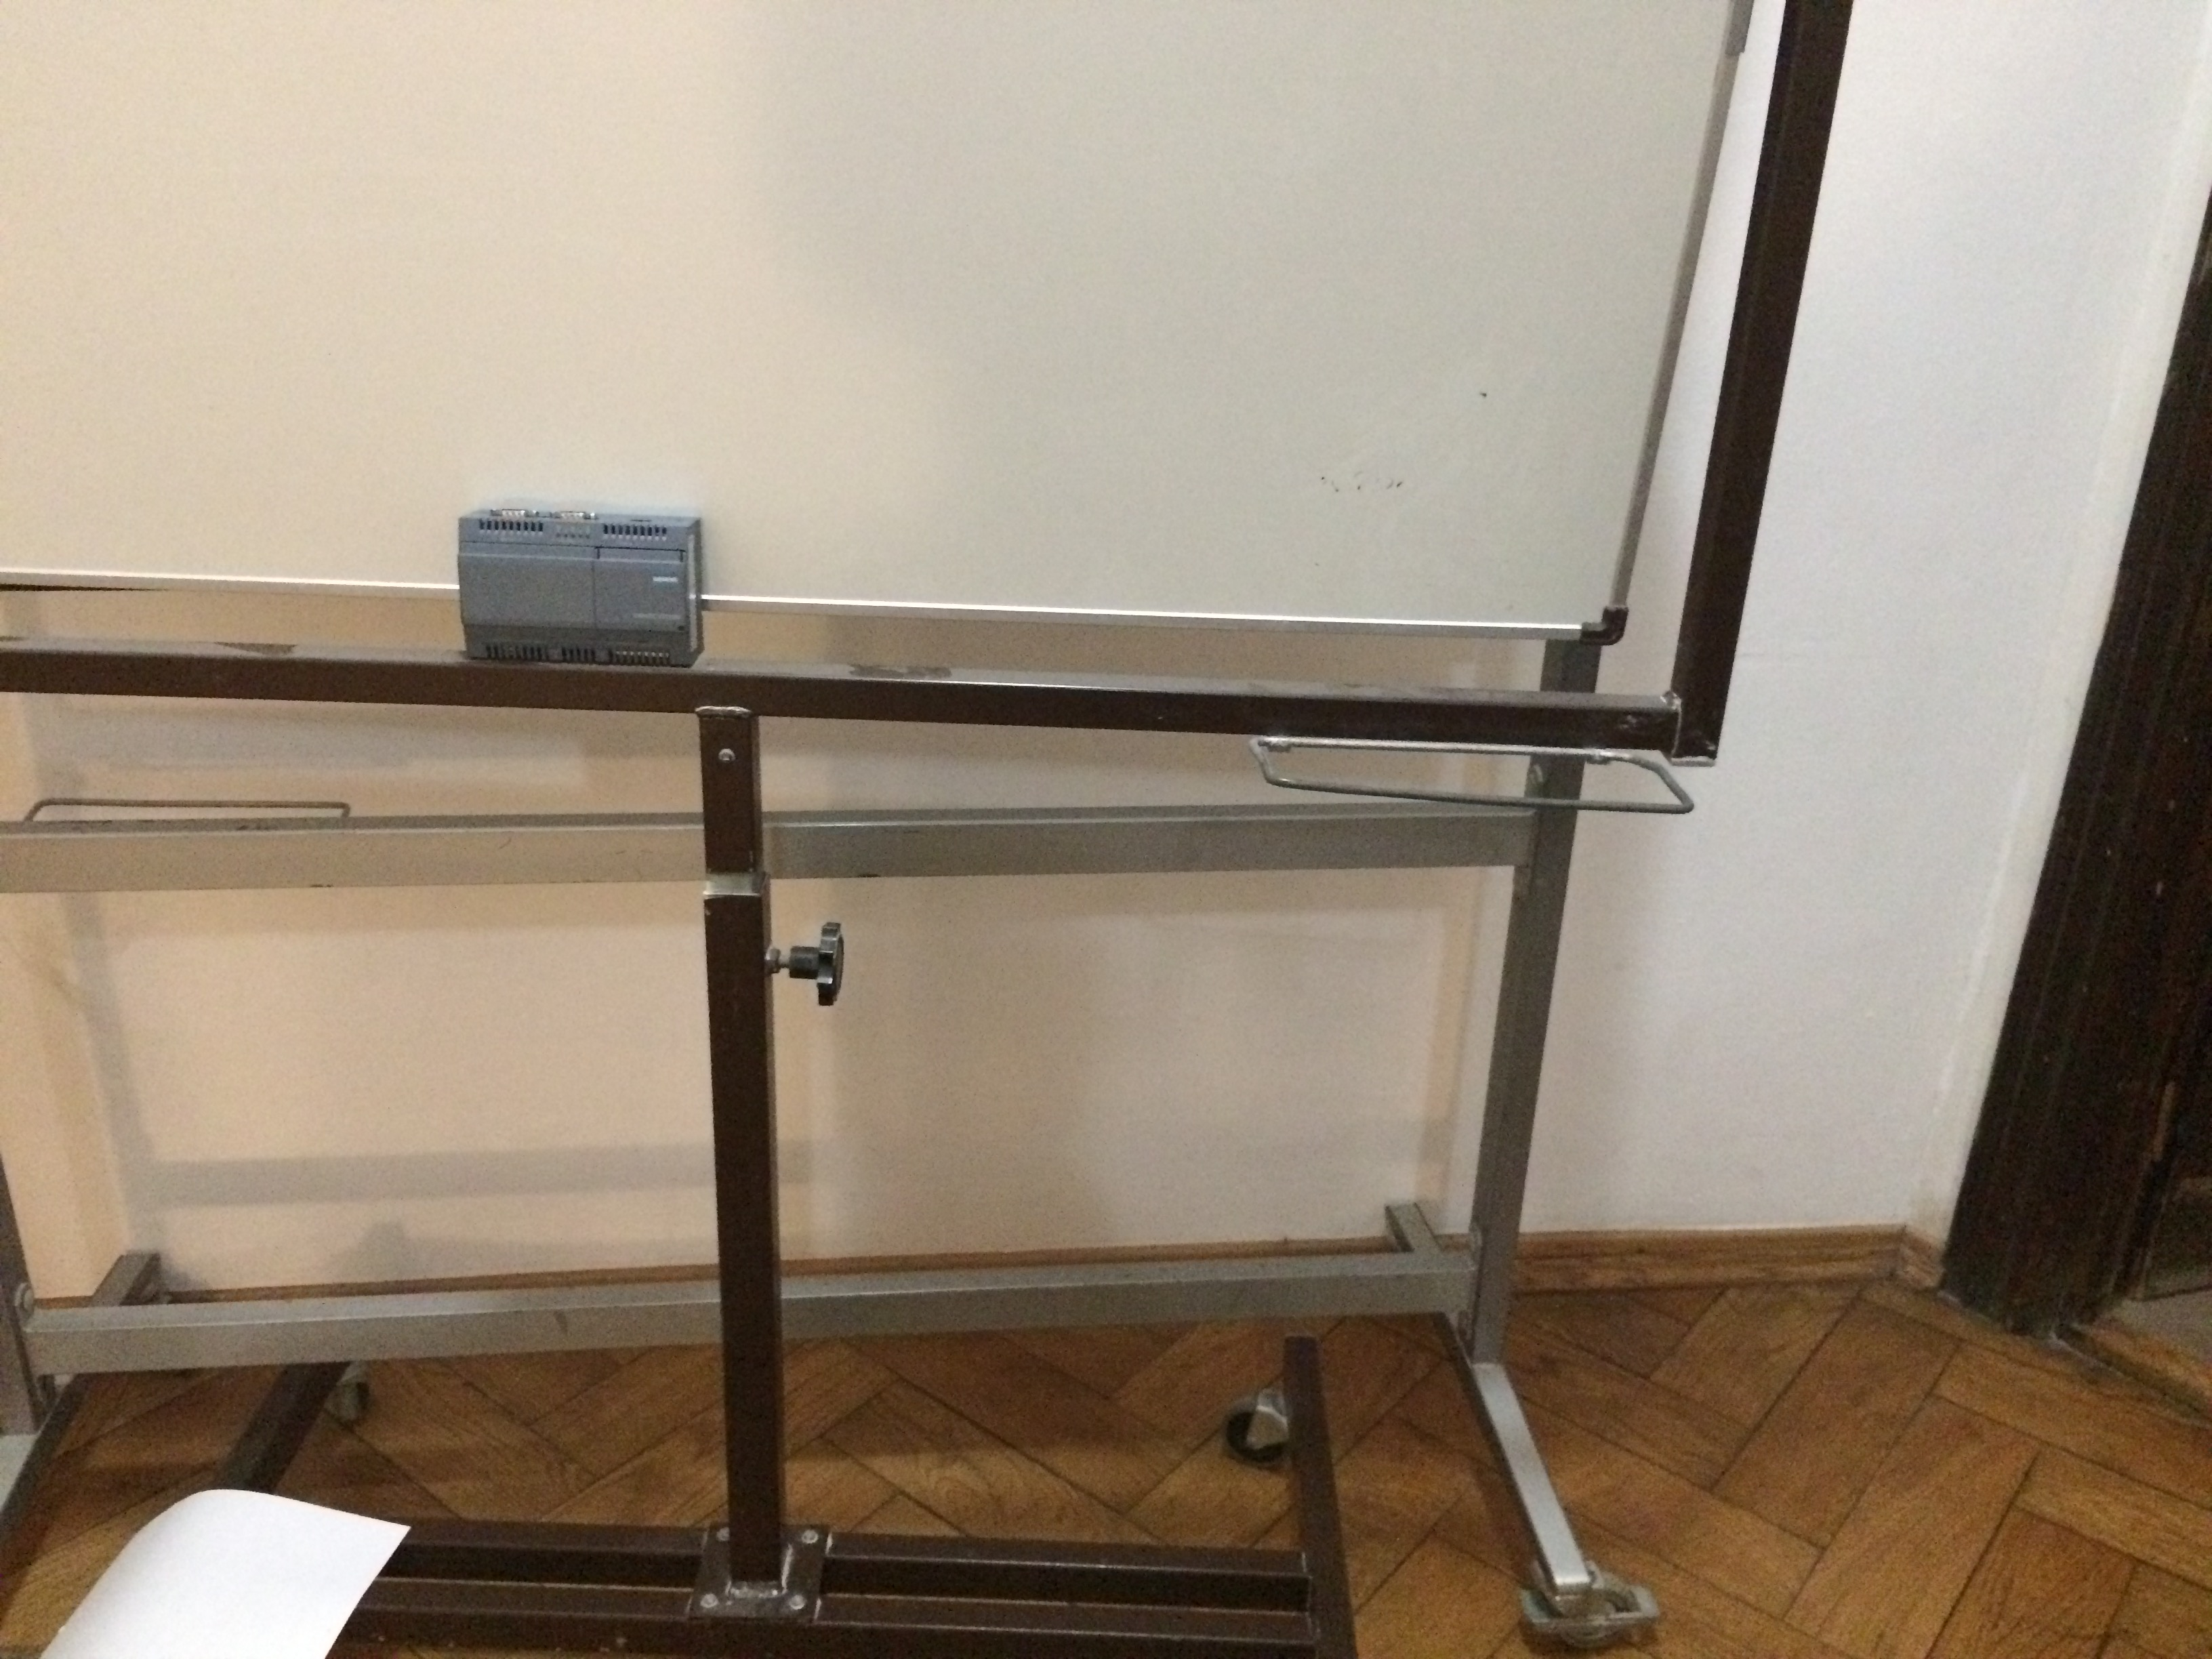iot2000: (453, 500, 709, 669)
